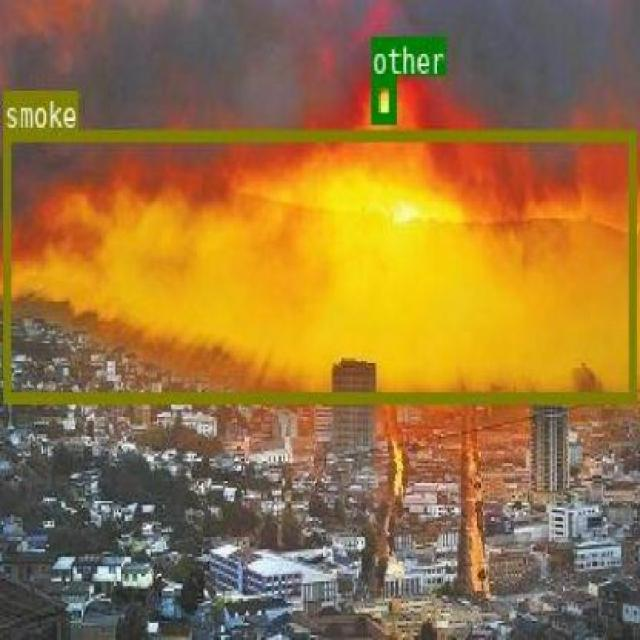Fire: (0, 125, 640, 412)
Smoke: (0, 0, 640, 227)
